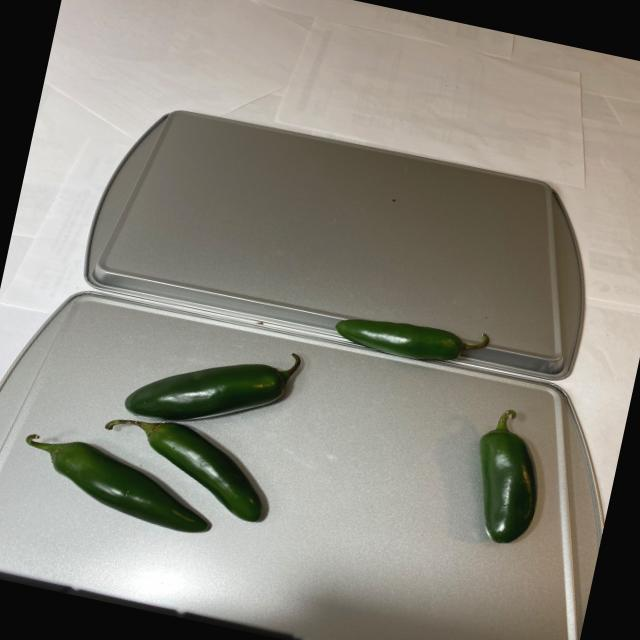chilli: (17, 308, 316, 552), (454, 406, 558, 558), (323, 302, 499, 386)
